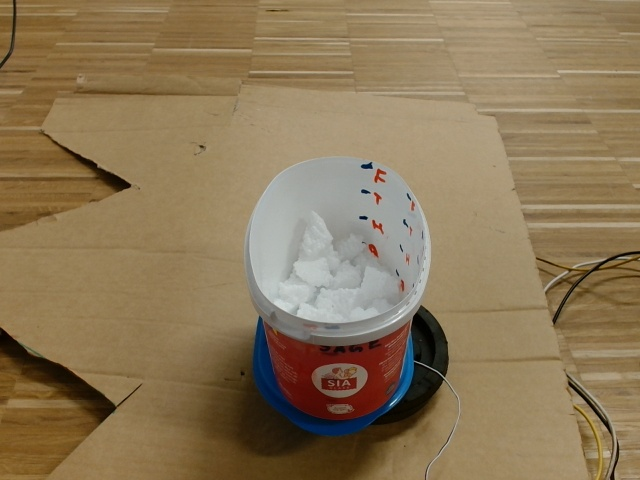Big_quarter: (244, 154, 433, 346)
